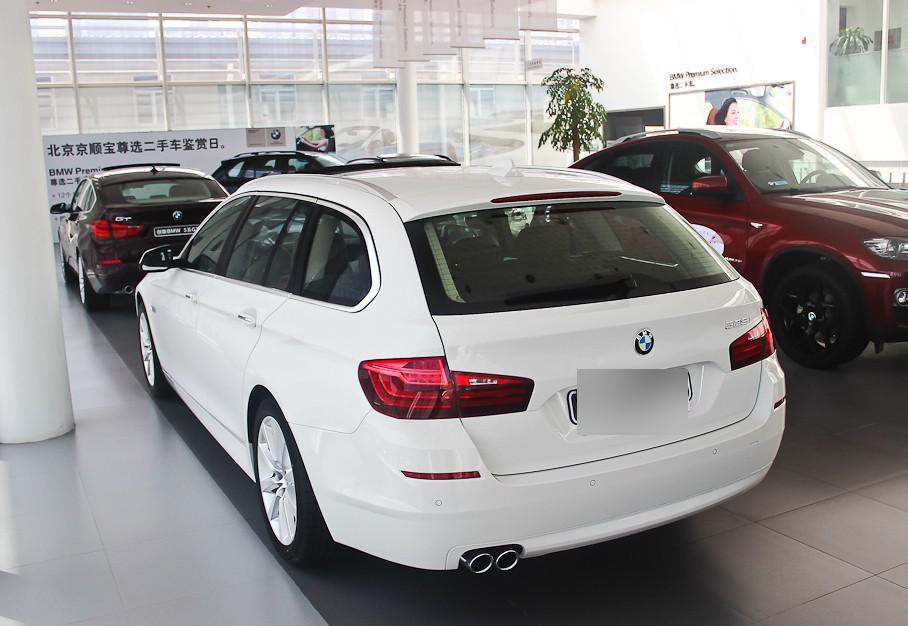Wagon: (132, 158, 789, 577)
